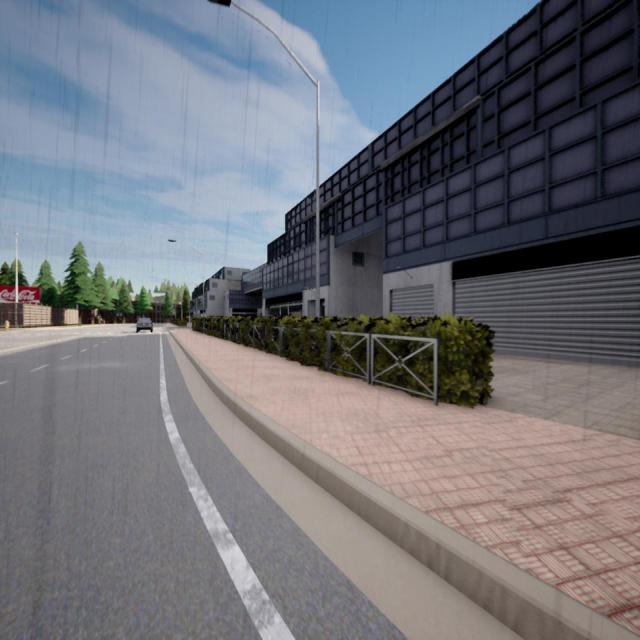Vehicle: (136, 317, 153, 333)
